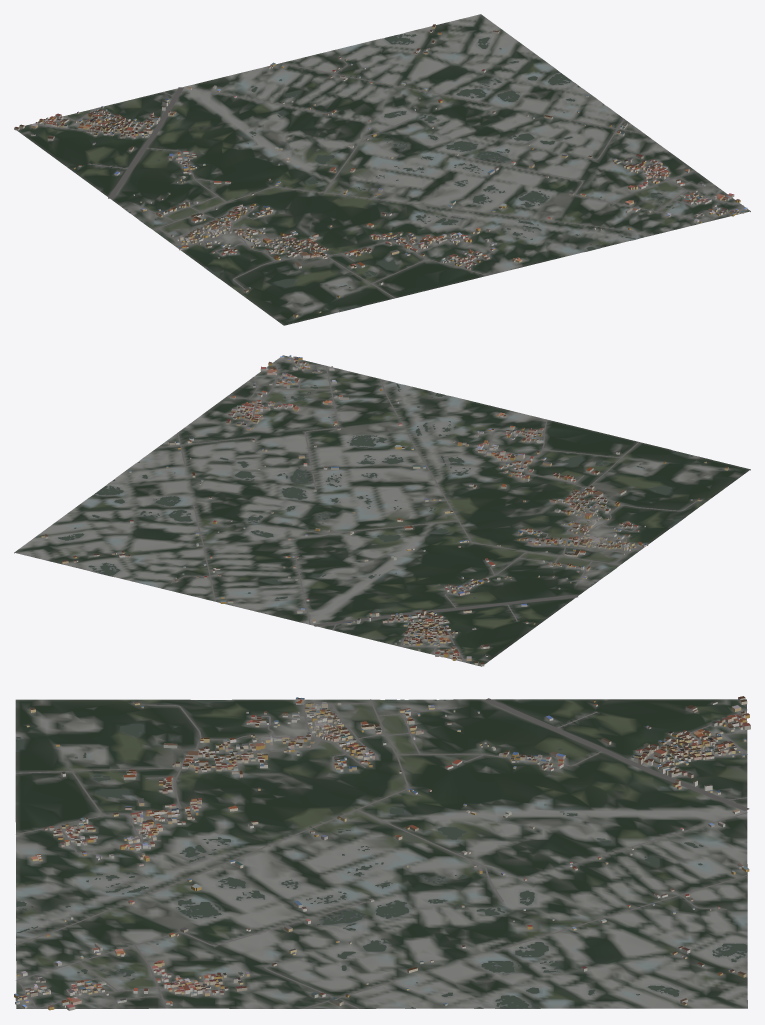
3 renders of one model, top to bottom at view 1: azimuth 30°, elevation 25°; view 2: azimuth 150°, elevation 25°; view 3: azimuth 270°, elevation 25°, orthographic. The views are drawn at different scales.
Parts seen in each view (by area): view 1: ground, buildings, roads, water; view 2: ground, buildings, roads, water; view 3: ground, buildings, water, roads.
Part boxes in pixels (<box>): ground: <box>14,14,750,325</box>; buildings: <box>14,24,747,317</box>; roads: <box>30,56,743,298</box>; water: <box>126,34,674,311</box>; ground: <box>14,355,750,666</box>; buildings: <box>41,355,728,666</box>; roads: <box>157,360,696,662</box>; water: <box>58,383,694,600</box>; ground: <box>15,699,747,1008</box>; buildings: <box>14,696,750,1010</box>; water: <box>16,699,747,1008</box>; roads: <box>15,698,749,1008</box>.
Bounding box in the file's own units: 1417 × 15.06 × 1412.
